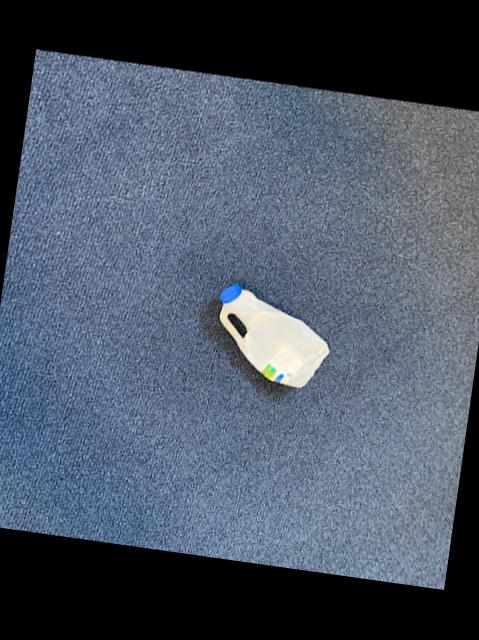plastic: (219, 286, 328, 388)
